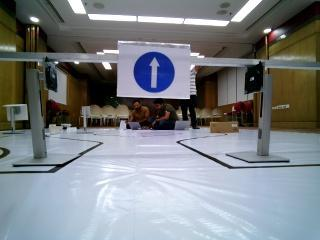straight: (119, 40, 190, 100)
